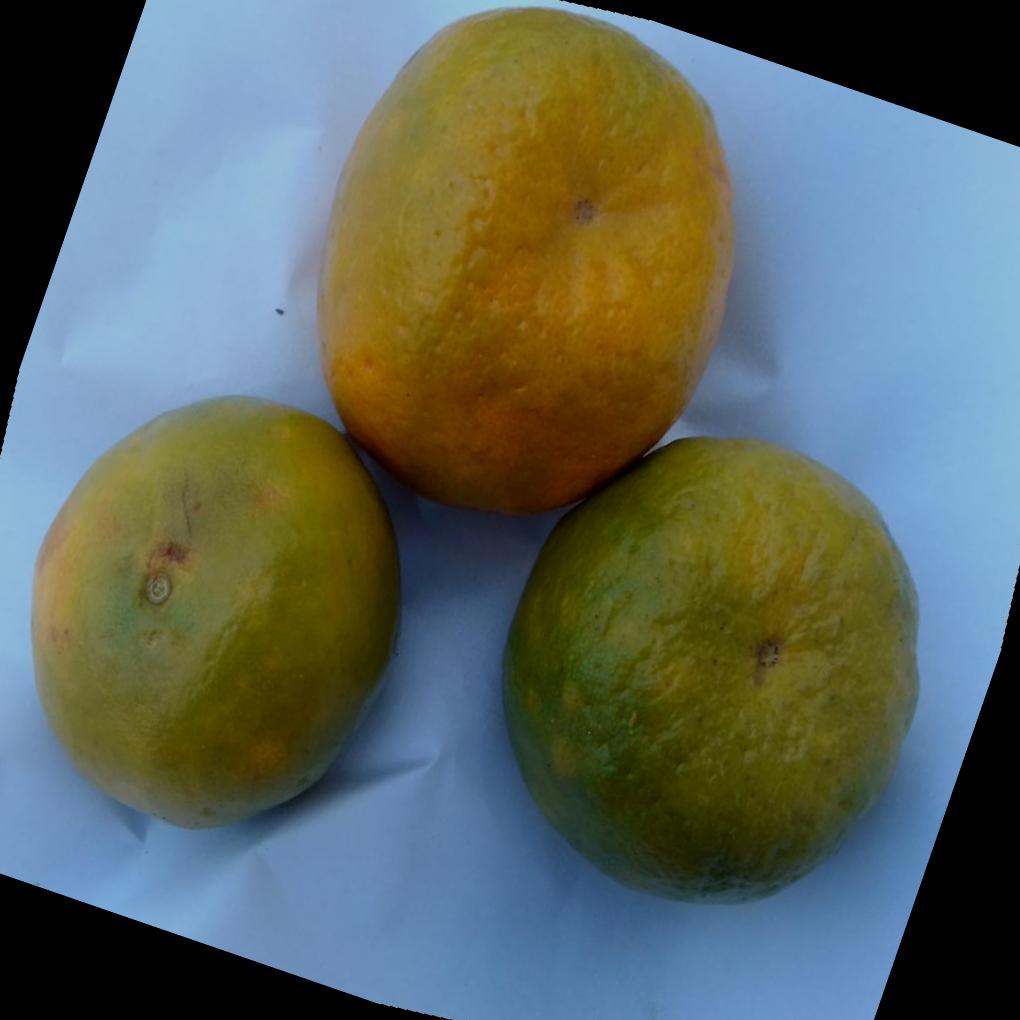FreshGuava: (32, 6, 925, 906)
